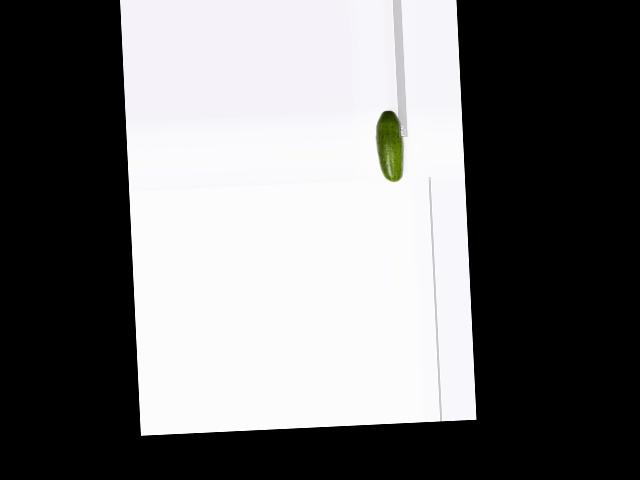cucumber: (374, 108, 405, 183)
